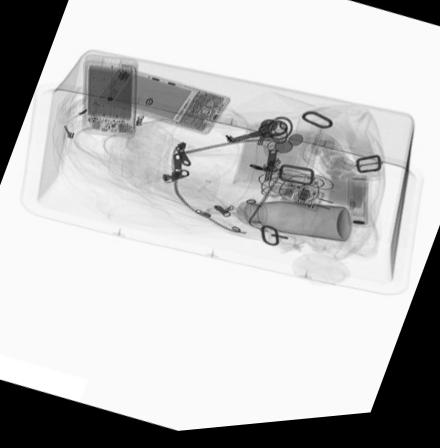Powerbank: (83, 62, 136, 140)
